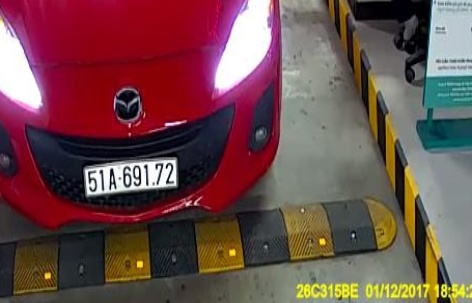plate: (85, 160, 178, 192)
